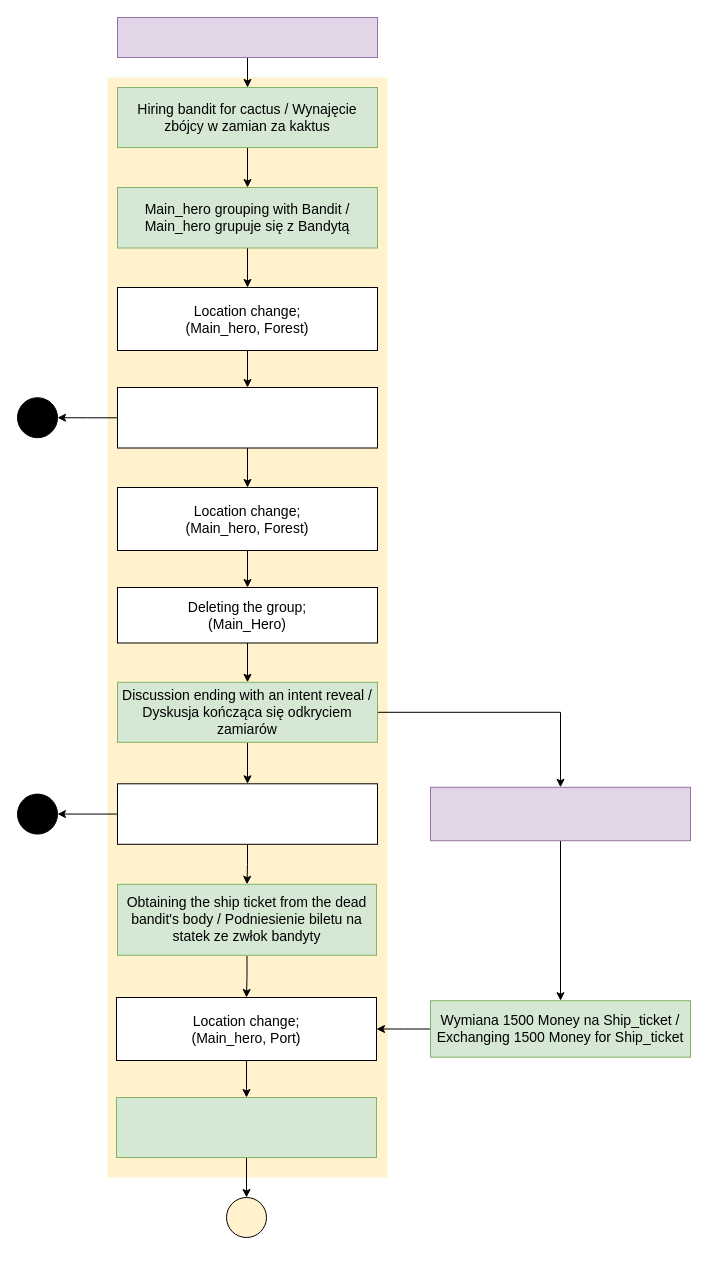
The diagram is 712 pixels wide and 1283 high, and some of its shapes have lost their labels. Here are the shapes that lost their labels. From the top down, the box of each, then its label:
(116, 16, 378, 58): (Main_hero posiada Priceless_argentinian_cactus, Q11)
(116, 386, 378, 448): Group fight ending with character’s death; (Main_Hero, Troll )
(116, 783, 378, 844): Fight ending with character’s death; (Main_Hero, Bandit)
(430, 786, 690, 841): Atrybut Money postaci Main_hero wynosi przynajmniej 1500
(116, 1096, 376, 1158): Entering the ship with the Ship_ticket / Wejście na statek z Ship_ticket
